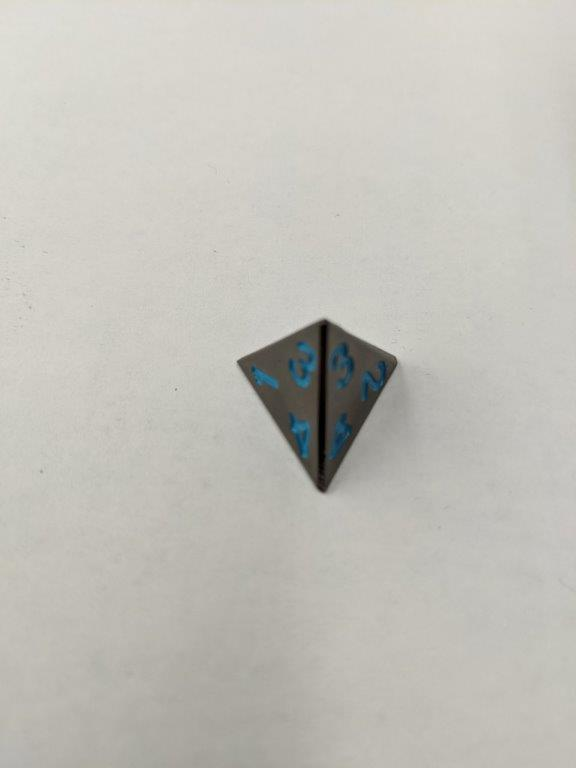d4-3: (232, 315, 397, 498)
